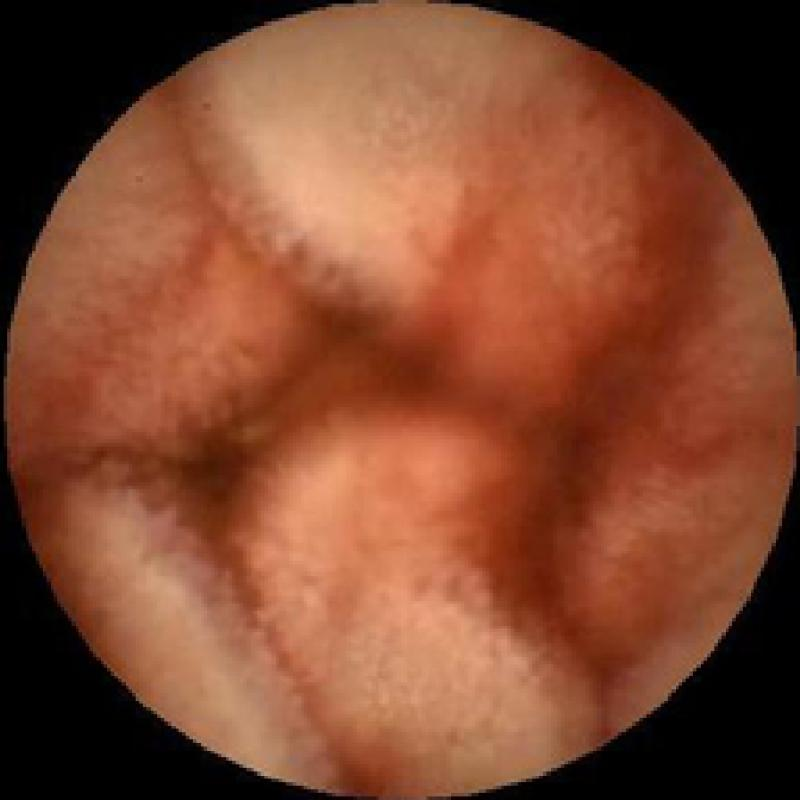bleeding: (132, 89, 643, 746)
